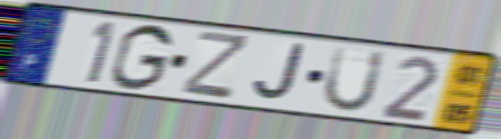1: (86, 19, 119, 87)
2: (379, 53, 442, 124)
G: (108, 22, 177, 93)
J: (250, 41, 307, 105)
U: (319, 44, 389, 115)
Z: (179, 29, 253, 103)
